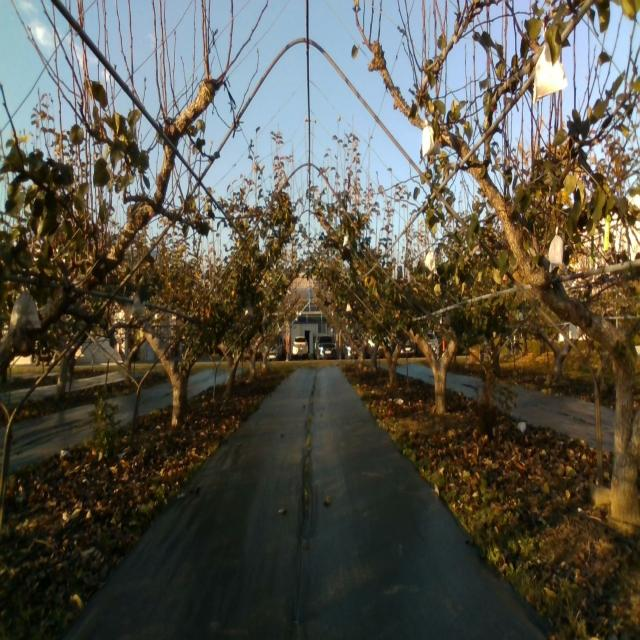pearbags: (533, 42, 568, 103), (9, 291, 42, 335), (422, 119, 442, 157), (548, 225, 564, 272), (425, 246, 437, 275), (132, 294, 146, 317)
